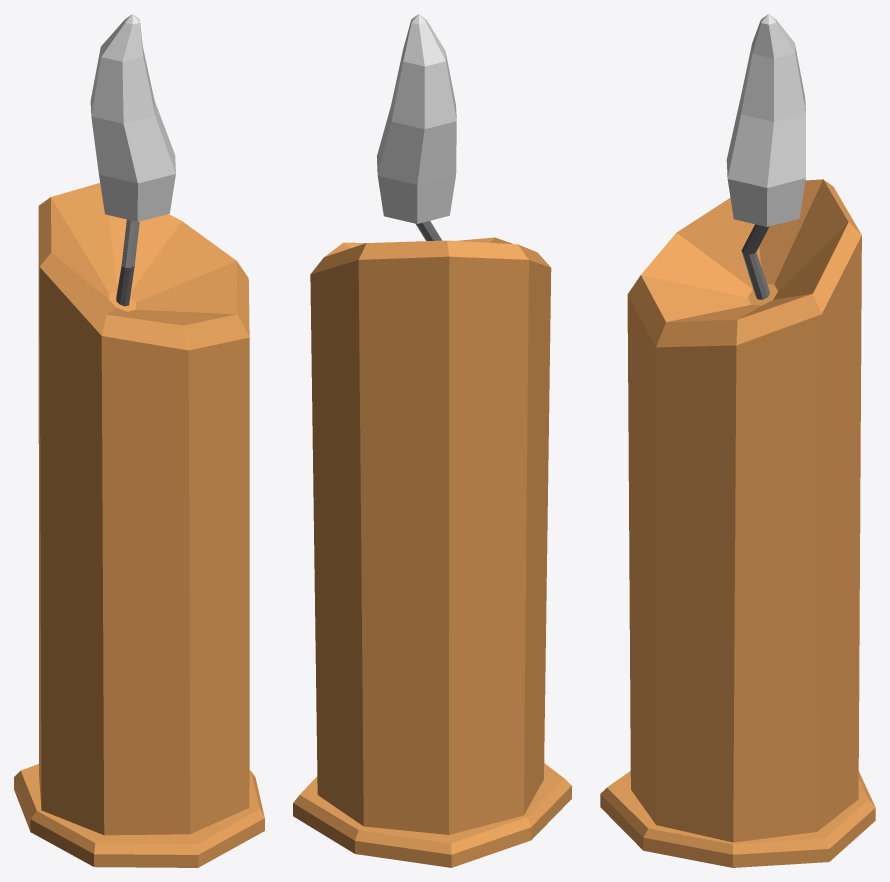
File: Candle.fbx
The picture shows the model from 3 angles, left to right: view 1: azimuth 30°, elevation 25°; view 2: azimuth 150°, elevation 25°; view 3: azimuth 270°, elevation 25°; orthographic projection.
Visible parts, largest first — view 1: Candle.005; view 2: Candle.005; view 3: Candle.005.
Part boxes in pixels (x1,y1,x2,y2): Candle.005: (14, 14, 264, 867); Candle.005: (293, 14, 571, 867); Candle.005: (600, 14, 875, 867).
Bounding box in the file's own units: 16 × 57 × 17.75.
